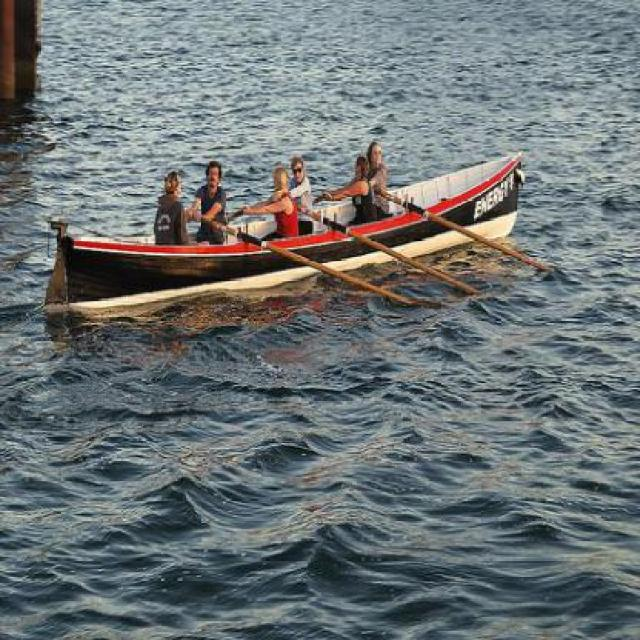Person: (239, 166, 296, 240), (321, 152, 377, 226), (183, 160, 226, 246), (153, 168, 190, 246), (285, 154, 312, 234), (365, 138, 387, 218)
